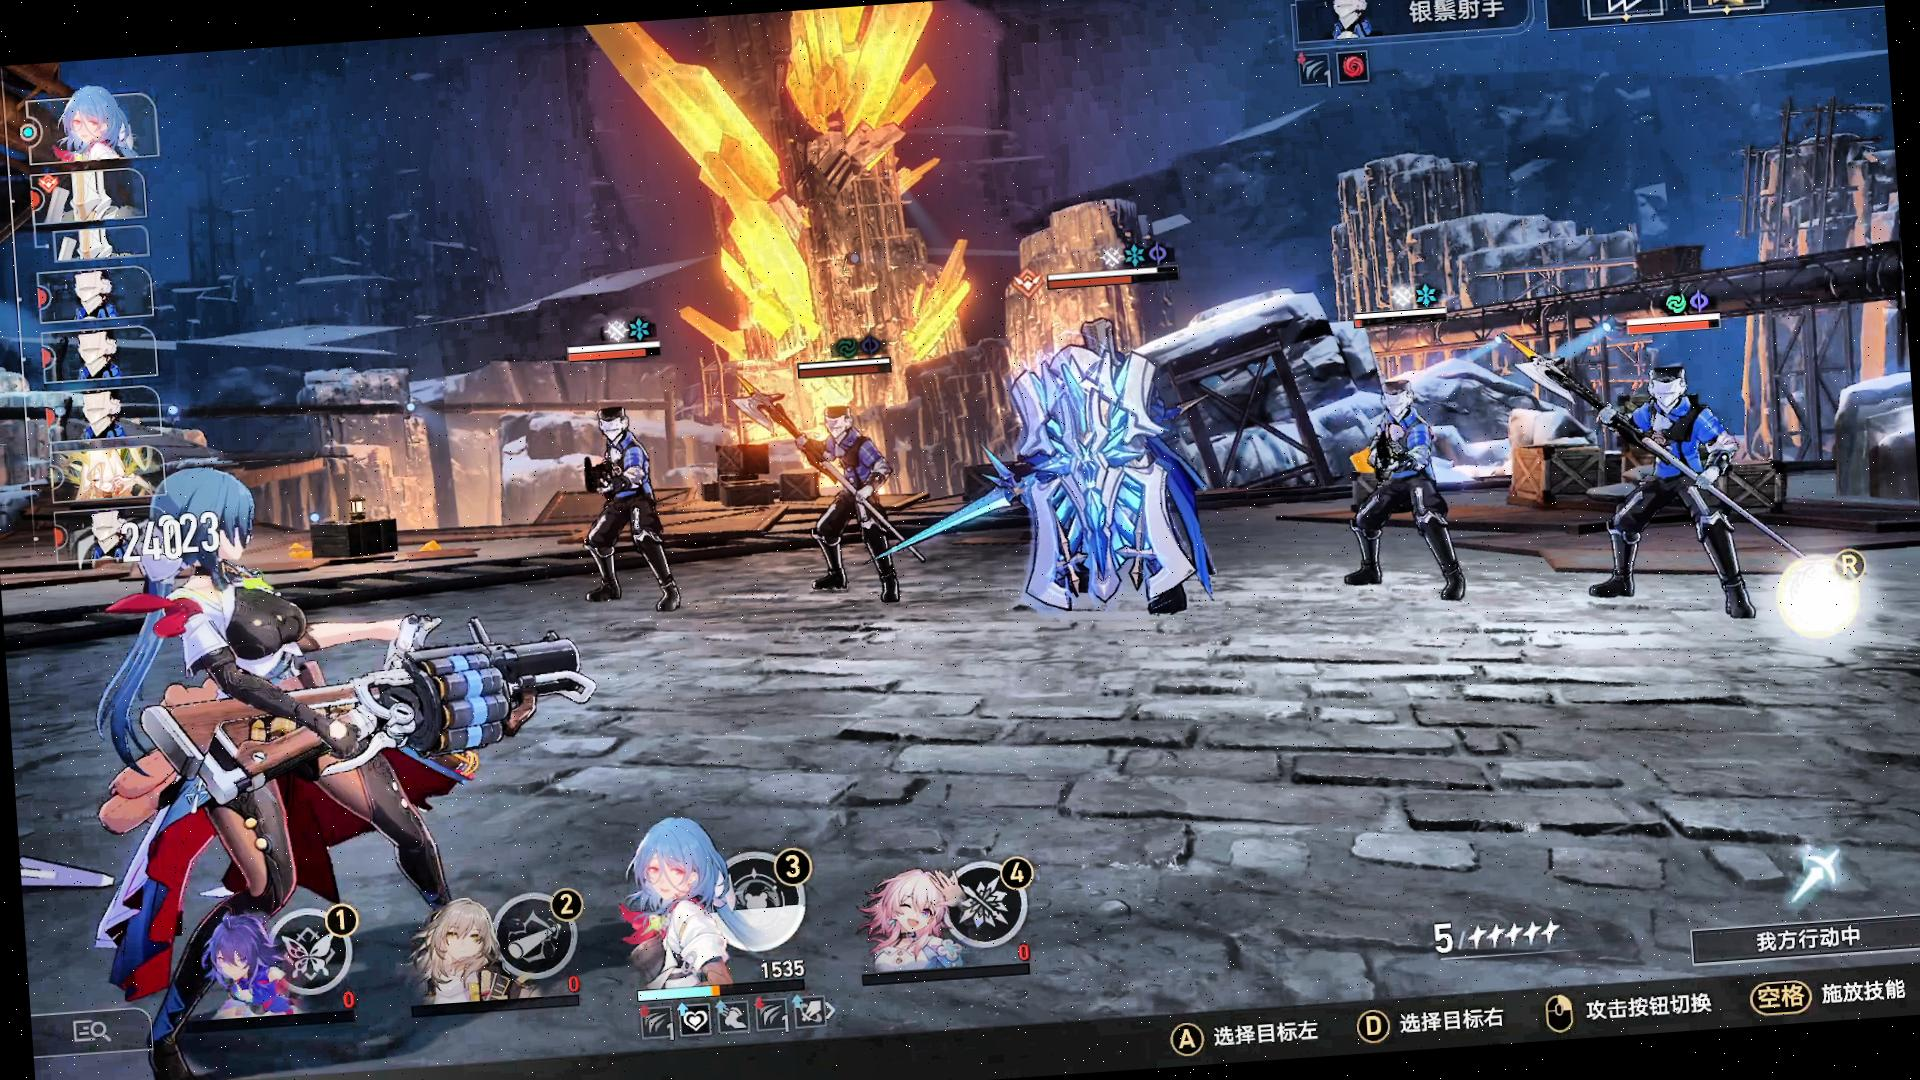Enemy: (985, 306, 1225, 637), (1560, 353, 1771, 642), (1333, 363, 1474, 618), (790, 390, 923, 613), (568, 396, 694, 630)
Self: (87, 442, 535, 1014)
